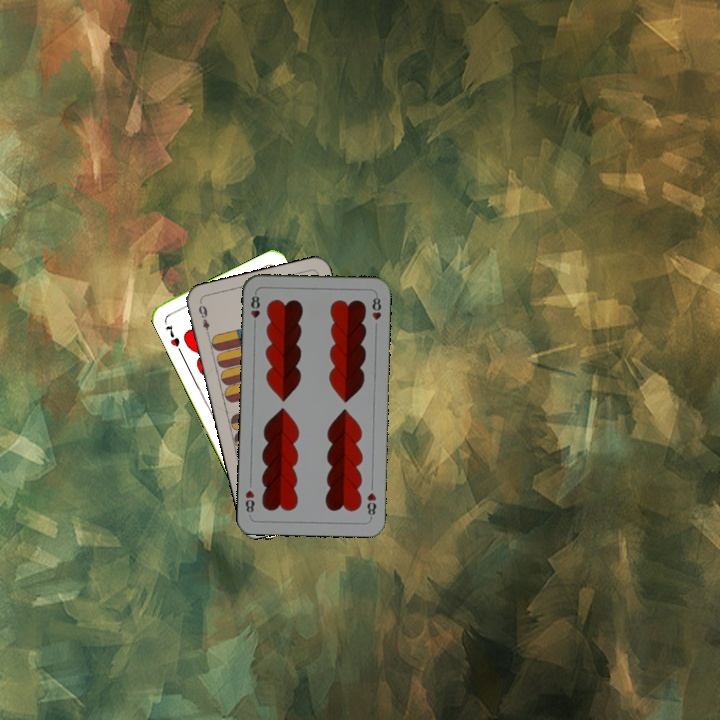E9: (194, 301, 212, 339)
H7: (161, 321, 182, 350)
H8: (247, 289, 262, 329), (363, 489, 379, 521)
